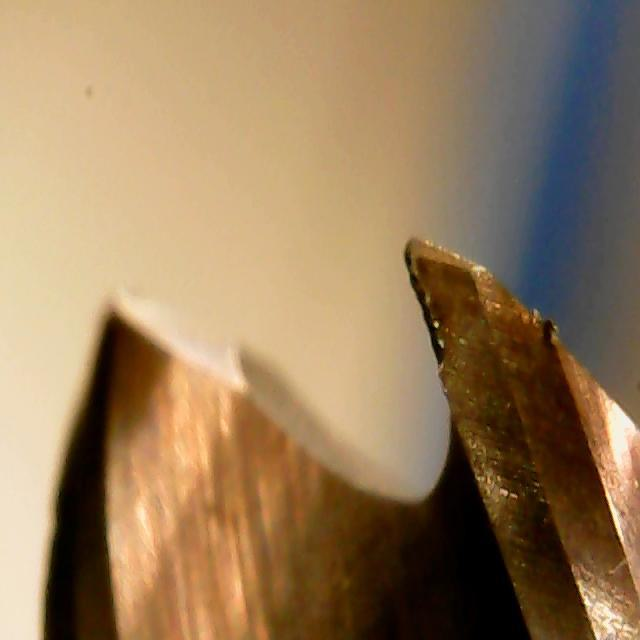Tool-wear-class-1: (401, 232, 542, 463)
